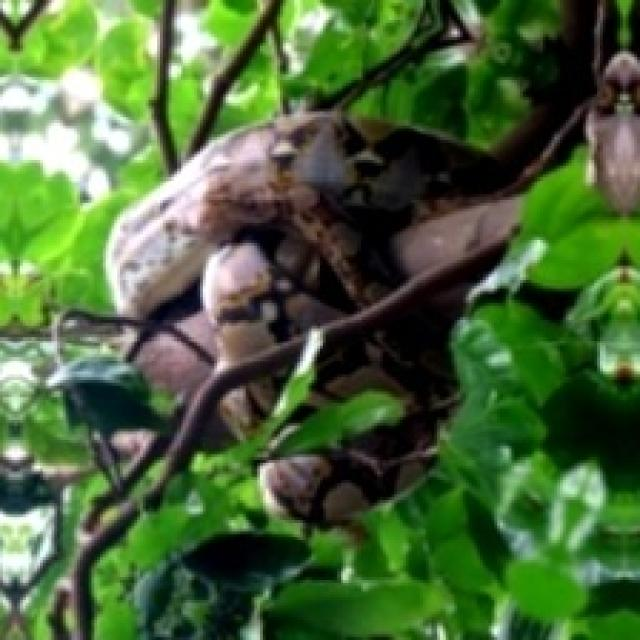reticulated python: (106, 111, 511, 337), (263, 317, 451, 523)
